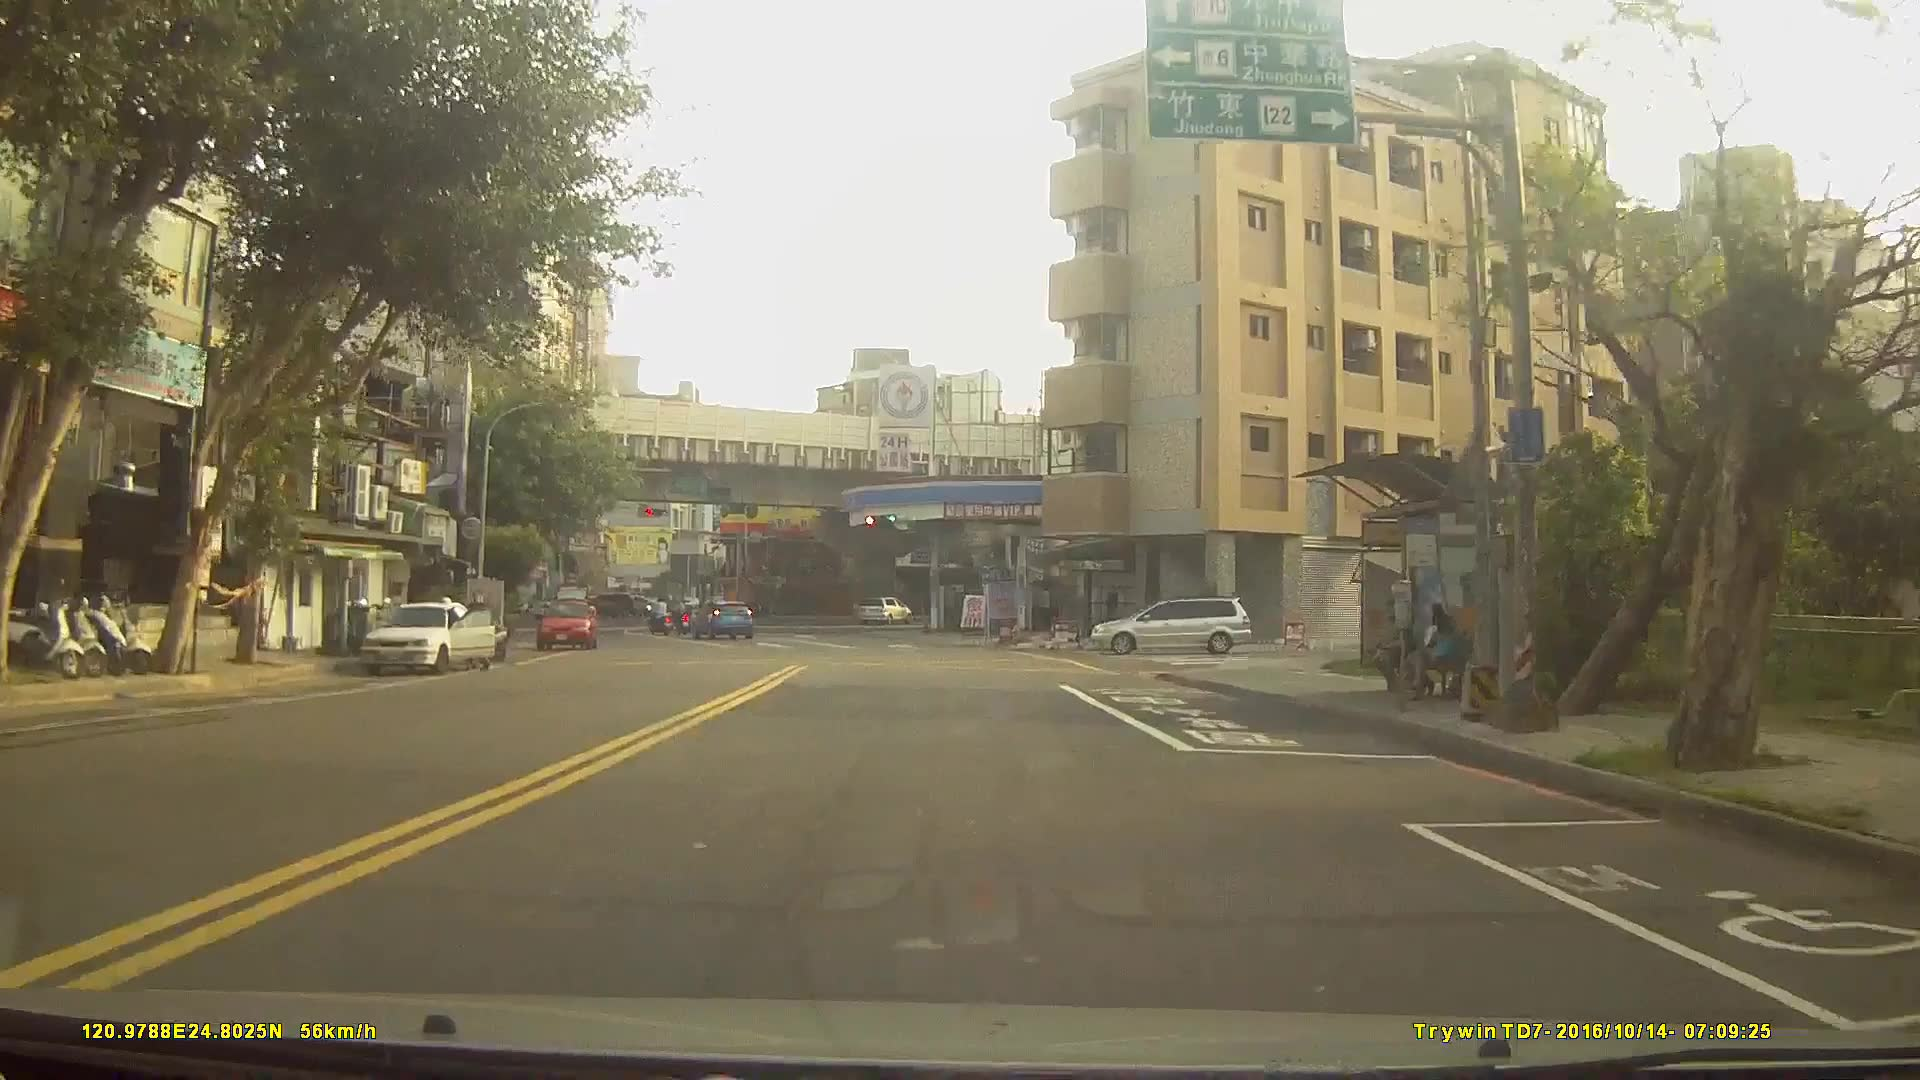pedestrian: (1374, 597, 1410, 703), (1424, 599, 1455, 703)
rider: (648, 595, 676, 640)
vehicle: (358, 597, 497, 676), (1090, 594, 1254, 653), (536, 596, 598, 649), (686, 596, 755, 640), (578, 590, 635, 620), (855, 595, 911, 624)
